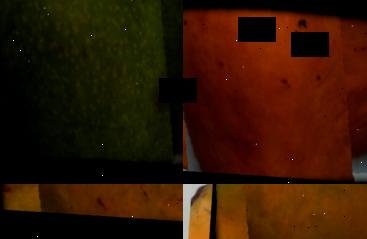PartiallyRipe: (0, 184, 183, 239), (193, 184, 367, 239)
Ripe: (183, 0, 367, 184)
Unripe: (0, 0, 183, 184)
